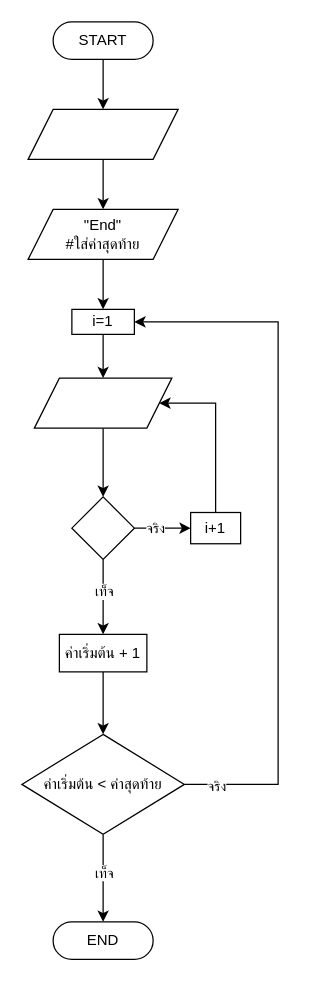
This 310x981 diagram has some shape labels left out. Each missing label, with the centre of its shape:
"Start" #ใส่ค่าเริ่มต้น: pixel 102 133
i < 9: pixel 102 527
ค่าเริ่มต้น x i: pixel 102 402
